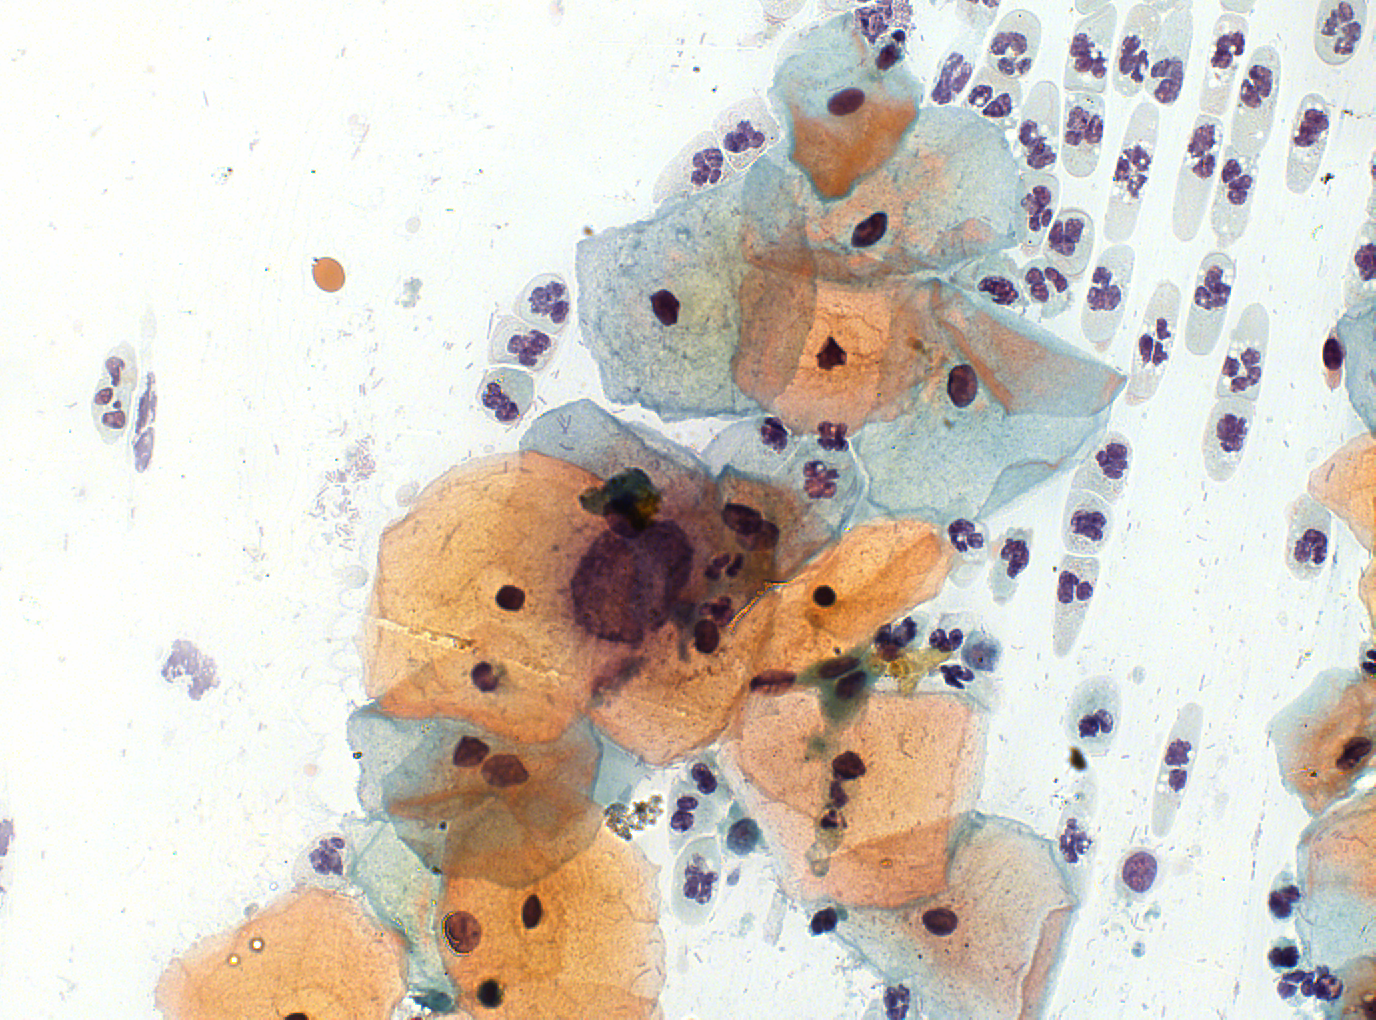Abn: (569, 517, 694, 645)
